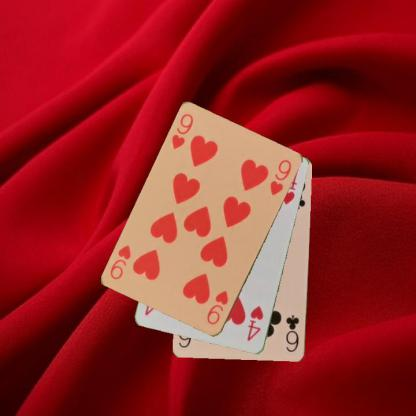4h: (245, 303, 266, 343)
6c: (283, 312, 301, 354)
9h: (168, 111, 194, 151), (204, 288, 230, 326)
